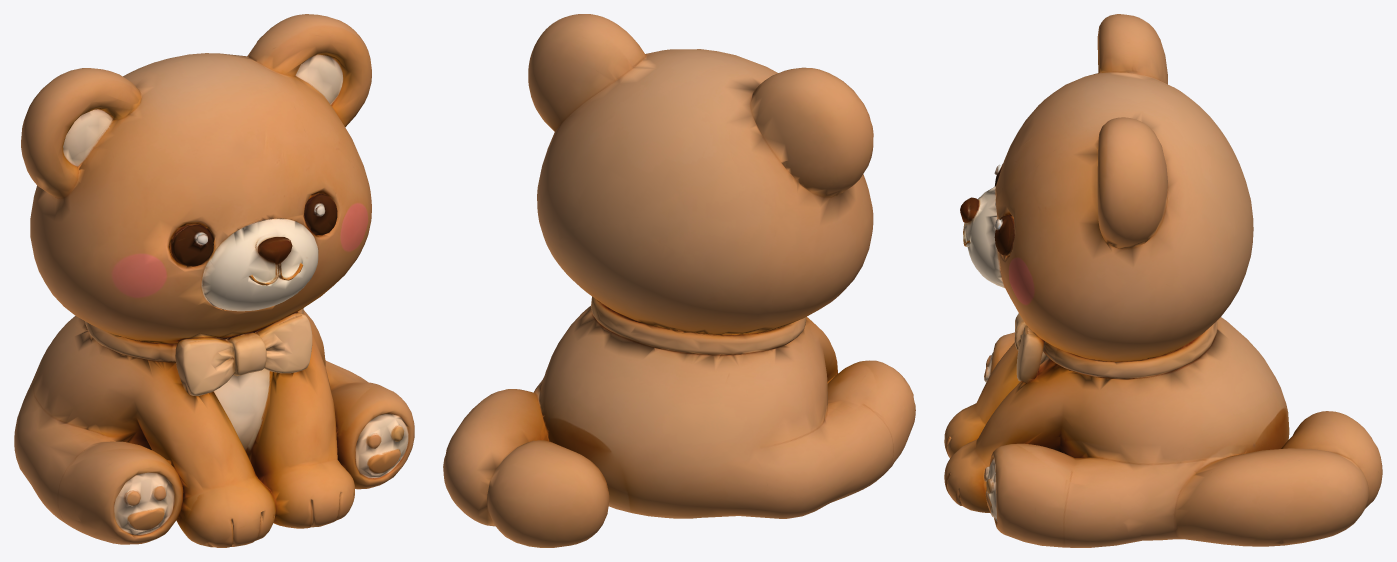
The model's file is bear.glb.
3 renders of one model, left to right at view 1: azimuth 30°, elevation 25°; view 2: azimuth 150°, elevation 25°; view 3: azimuth 270°, elevation 25°, orthographic. The views are drawn at different scales.
Visible parts, largest first — view 1: node_0; view 2: node_0; view 3: node_0.
Part boxes in pixels (<box>): node_0: <box>14,14,414,547</box>; node_0: <box>443,14,915,547</box>; node_0: <box>944,14,1382,547</box>.
Bounding box in the file's own units: 0.7212 × 0.8771 × 0.8424.
1 material, 1 textured.
